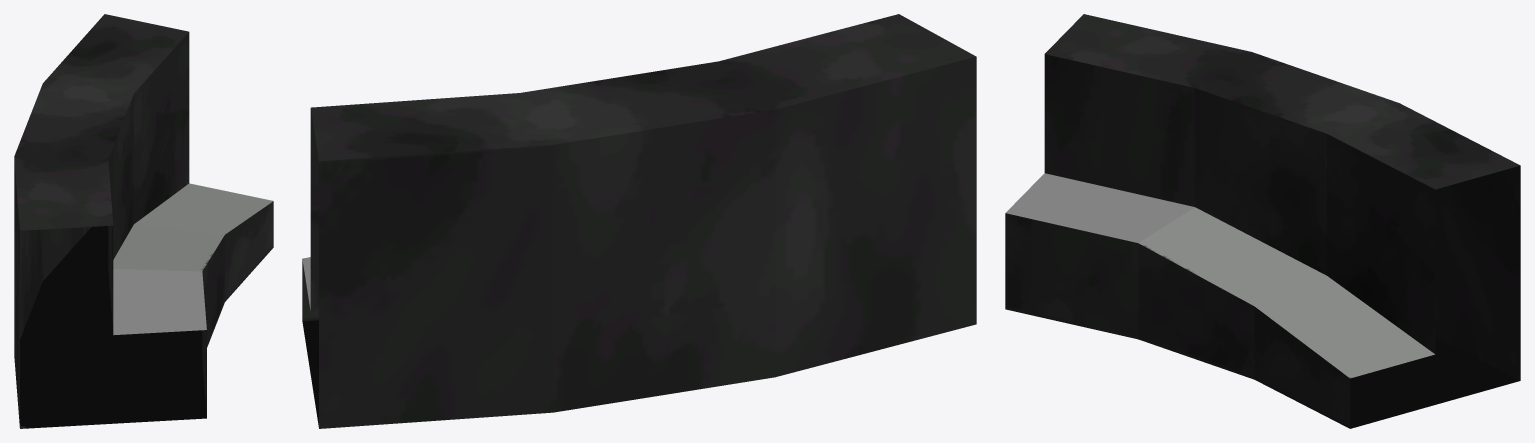
The model's file is top_11.obj.
The picture shows the model from 3 angles, left to right: view 1: azimuth 30°, elevation 25°; view 2: azimuth 150°, elevation 25°; view 3: azimuth 270°, elevation 25°; orthographic projection. The views are drawn at different scales.
Parts seen in each view (by area): view 1: Cylinder.036; view 2: Cylinder.036; view 3: Cylinder.036.
Part boxes in pixels (left/top/right/bottom): Cylinder.036: left=14, top=14, right=273, bottom=428; Cylinder.036: left=302, top=14, right=976, bottom=428; Cylinder.036: left=1005, top=14, right=1520, bottom=428.
Size of the model in its own units: 18.7 by 9.41 by 20.4.
